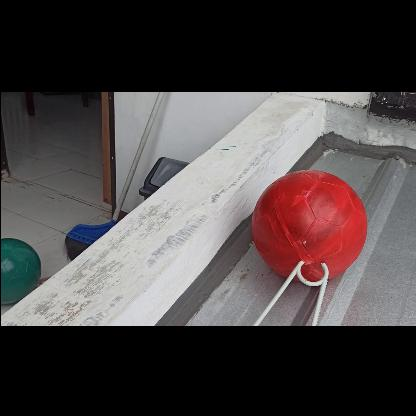red_ball: (250, 168, 366, 284)
